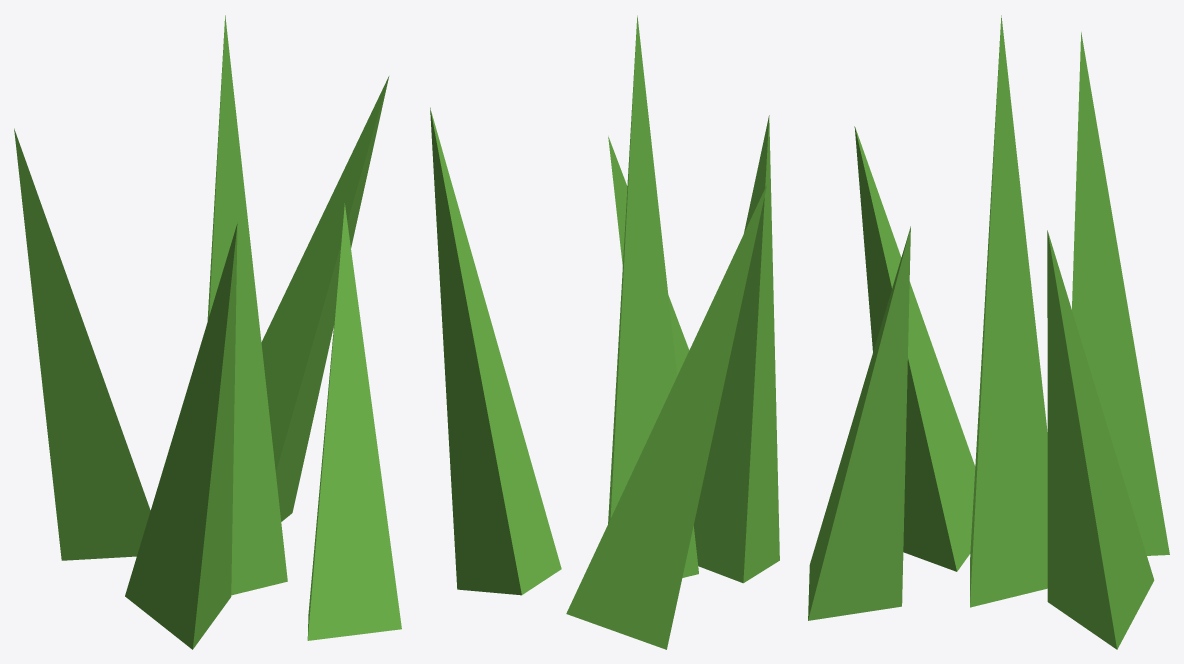
The model's file is grass.glb.
3 renders of one model, left to right at view 1: azimuth 30°, elevation 25°; view 2: azimuth 150°, elevation 25°; view 3: azimuth 270°, elevation 25°, orthographic.
Visible parts, largest first — view 1: GrassBlades; view 2: GrassBlades; view 3: GrassBlades.
Part boxes in pixels (x1,y1,x2,y2): GrassBlades: [14, 15, 401, 649]; GrassBlades: [430, 15, 779, 649]; GrassBlades: [808, 15, 1169, 649].
Size of the model in its own units: 0.3307 by 0.5051 by 0.2875.
